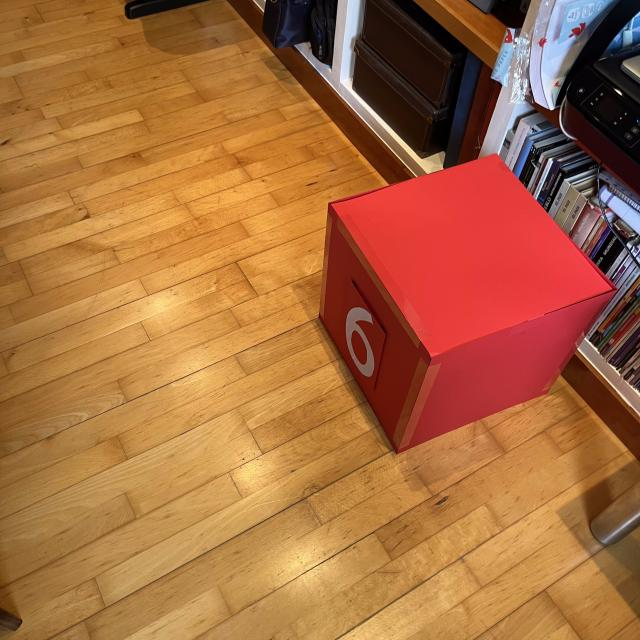box: (316, 151, 617, 455)
